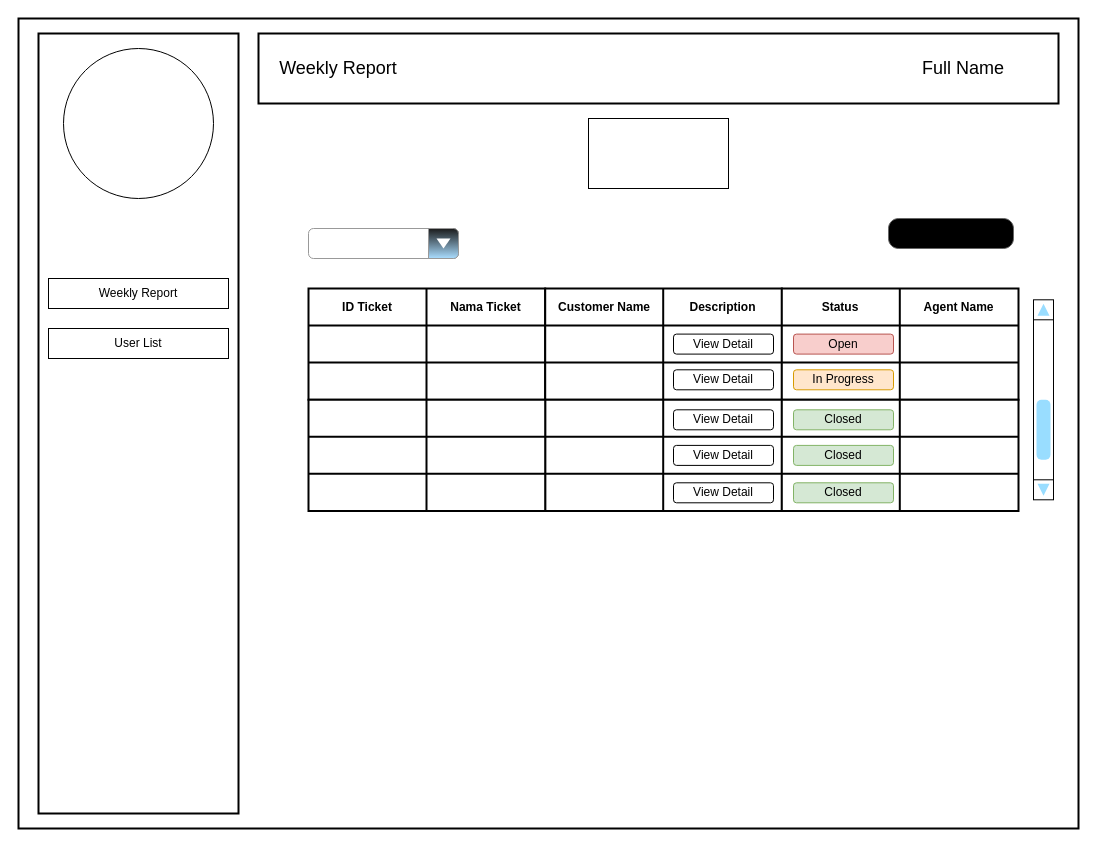
The diagram is 1096 pixels wide and 846 high, and some of its shapes have lost their labels. The centre of each missing label's shape, as x and y in pixels:
"Export Report" goes at pixel 951 233.
"Logo" goes at pixel 138 123.
"Sat, 19 Oct 2024 Week 41" goes at pixel 658 153.
"Week 41" goes at pixel 383 243.
